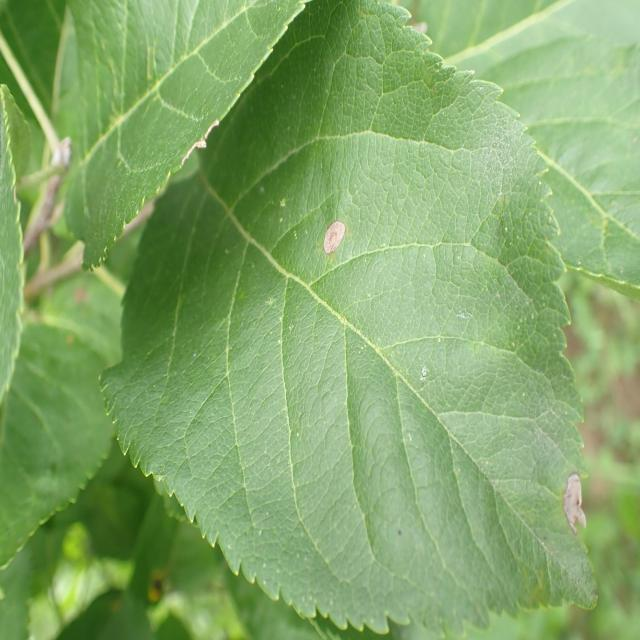Black Rot: (548, 455, 604, 560), (310, 182, 357, 274)
